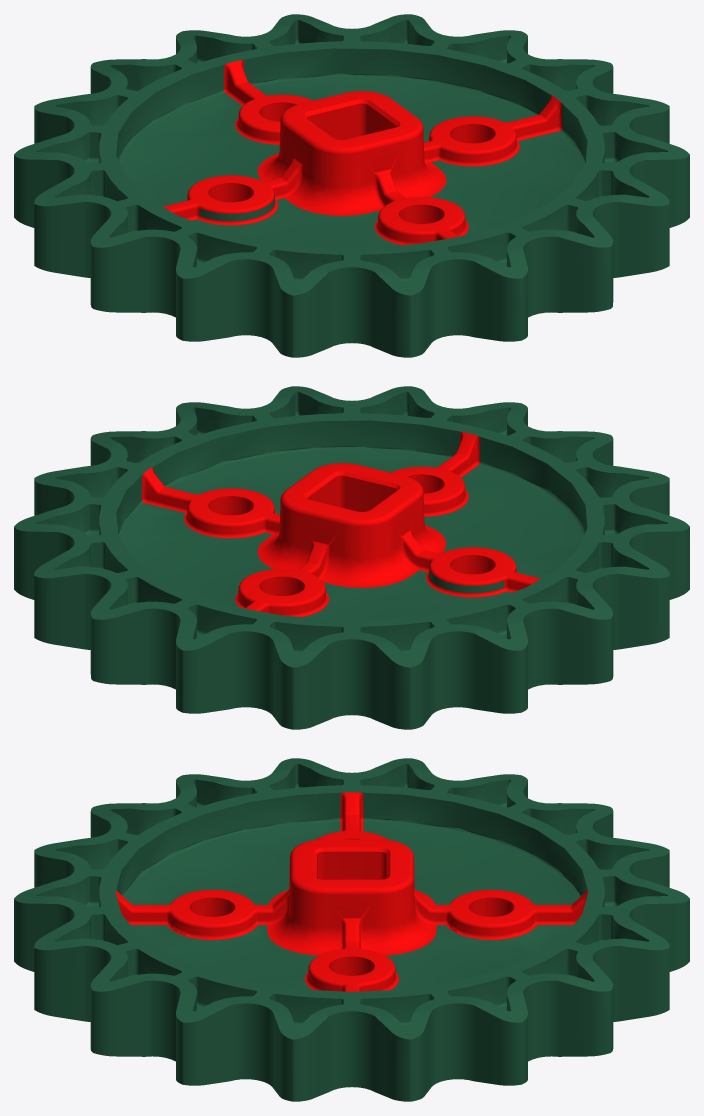
Rendered from 18t-high-strength-sprocket-hs-bore.glb.
The picture shows the model from 3 angles, top to bottom: view 1: azimuth 30°, elevation 25°; view 2: azimuth 150°, elevation 25°; view 3: azimuth 270°, elevation 25°; orthographic projection.
Parts seen in each view (by area): view 1: 276-2252-005 Rev3; view 2: 276-2252-005 Rev3; view 3: 276-2252-005 Rev3.
Part boxes in pixels (x1=…): 276-2252-005 Rev3: x1=14, y1=14, x2=689, y2=357; 276-2252-005 Rev3: x1=14, y1=386, x2=689, y2=729; 276-2252-005 Rev3: x1=14, y1=758, x2=689, y2=1101.
Bounding box in the file's own units: 0.0606 × 0.0133 × 0.0615.
